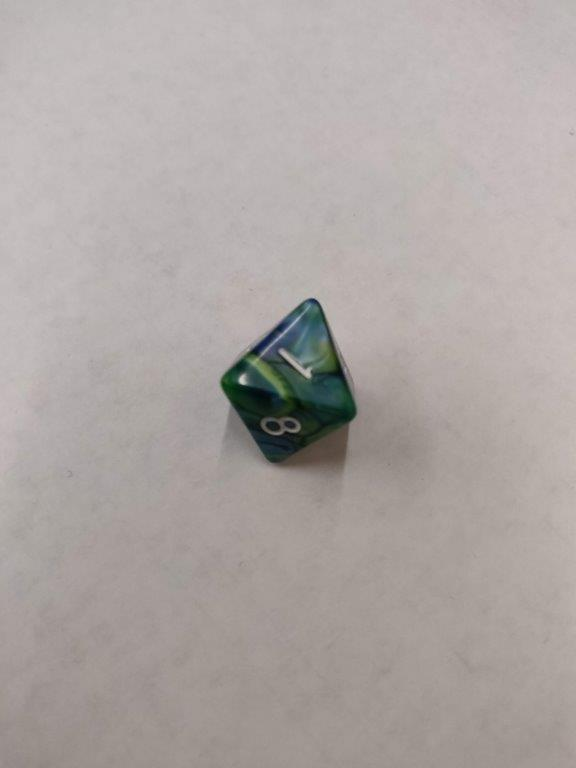d8-1: (219, 298, 357, 466)
